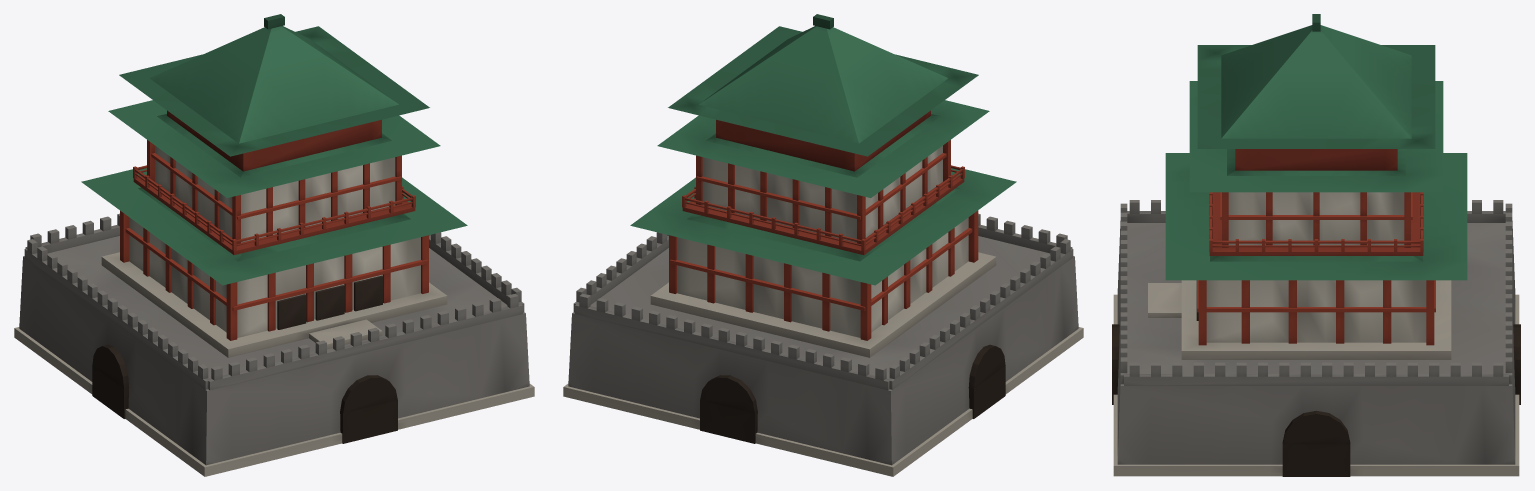
File: bell-tower.glb
3 renders of one model, left to right at view 1: azimuth 30°, elevation 25°; view 2: azimuth 150°, elevation 25°; view 3: azimuth 270°, elevation 25°, orthographic. The views are drawn at different scales.
Visible parts, largest first — view 1: p0_base, p2_roofs, p1_halls; view 2: p0_base, p2_roofs, p1_halls; view 3: p0_base, p2_roofs, p1_halls.
Part boxes in pixels (bbox=[...]): p0_base: bbox=[14, 213, 534, 476]; p2_roofs: bbox=[81, 14, 467, 285]; p1_halls: bbox=[101, 140, 447, 357]; p0_base: bbox=[563, 213, 1083, 476]; p2_roofs: bbox=[630, 14, 1016, 285]; p1_halls: bbox=[650, 140, 996, 357]; p0_base: bbox=[1112, 200, 1520, 476]; p2_roofs: bbox=[1165, 14, 1467, 280]; p1_halls: bbox=[1148, 192, 1451, 359].
Bounding box in the file's own units: 36.4 × 36.57 × 36.4.
